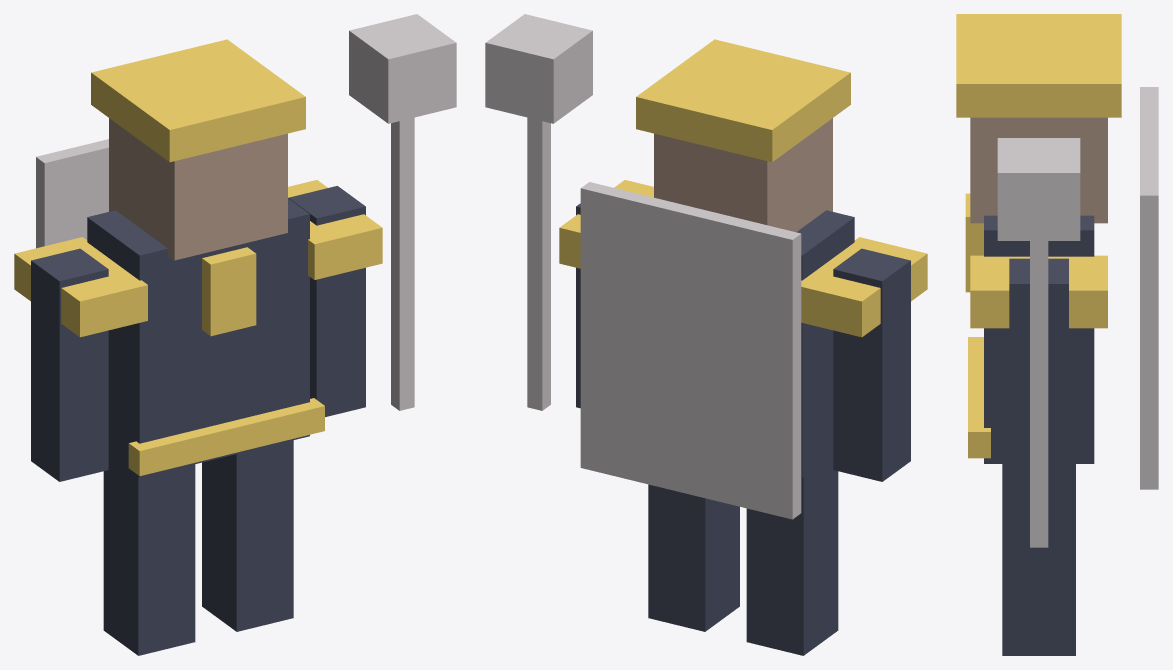
File: 14_asha_cragwarden_sentinel_at_loot.glb
3 views of the same model, side by side, from view 1: azimuth 30°, elevation 25°; view 2: azimuth 150°, elevation 25°; view 3: azimuth 270°, elevation 25° (orthographic). The views are drawn at different scales.
Visible parts, largest first — view 1: Asha Cragwarden, Sentinel at Loot; view 2: Asha Cragwarden, Sentinel at Loot; view 3: Asha Cragwarden, Sentinel at Loot.
Part boxes in pixels (x1=…): Asha Cragwarden, Sentinel at Loot: x1=14, y1=14, x2=456, y2=655; Asha Cragwarden, Sentinel at Loot: x1=485, y1=14, x2=927, y2=655; Asha Cragwarden, Sentinel at Loot: x1=956, y1=14, x2=1158, y2=655.
Size of the model in its own units: 1.13 by 1.49 by 0.4816.
